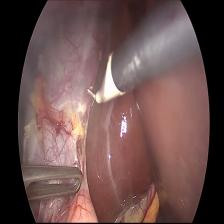Grasper: (17, 162, 84, 204)
Hook: (83, 52, 128, 108)
